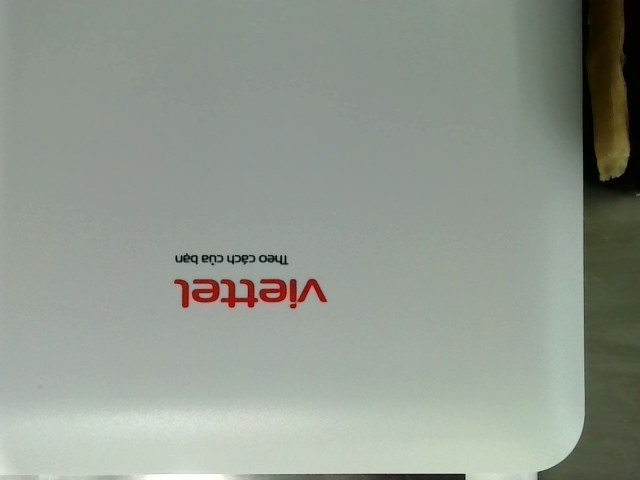AY_Viettel: (173, 248, 330, 316)
